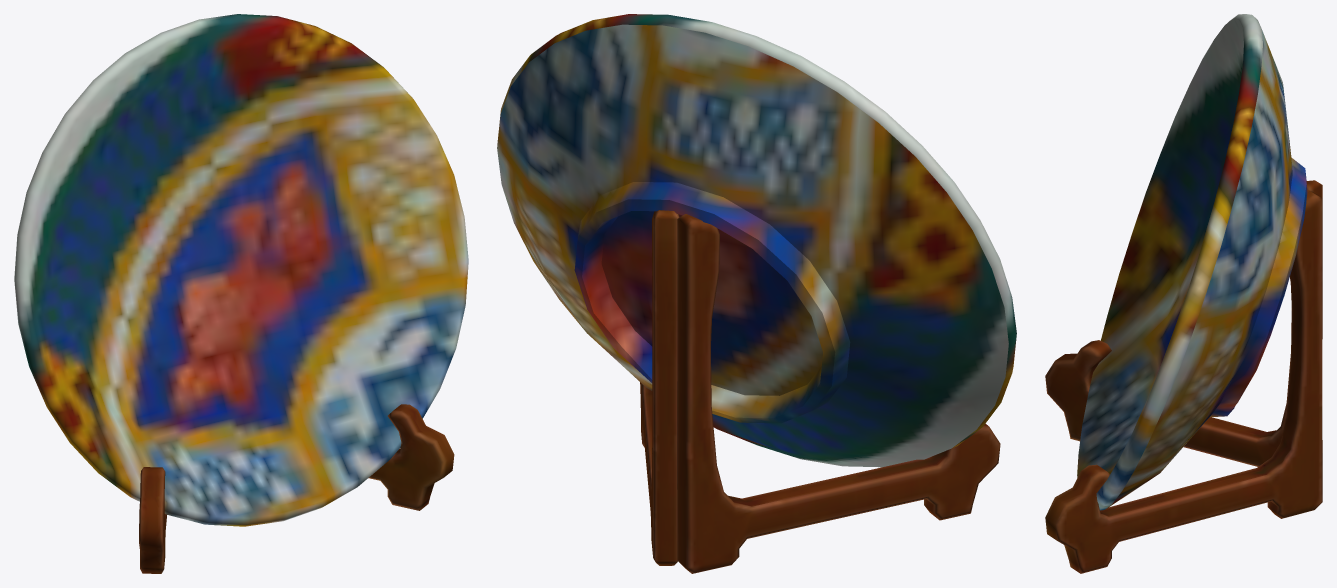
3 views of the same model, side by side, from view 1: azimuth 30°, elevation 25°; view 2: azimuth 150°, elevation 25°; view 3: azimuth 270°, elevation 25° (orthographic). The views are drawn at different scales.
Size of the model in its own units: 8.68 by 8.49 by 4.6.
Materials: 2 (2 with a texture image).
